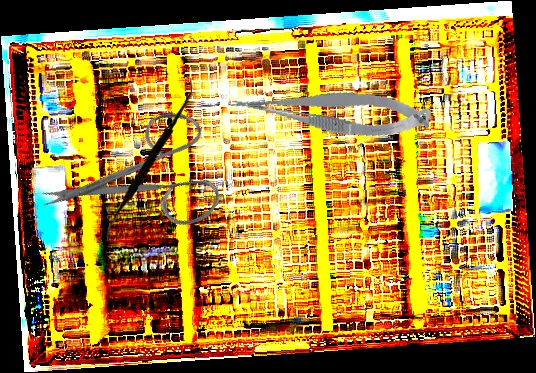Iris Scissors: (35, 74, 250, 292)
Micro Scissor: (229, 69, 433, 150)
Spatula Surgical: (100, 77, 198, 242)
